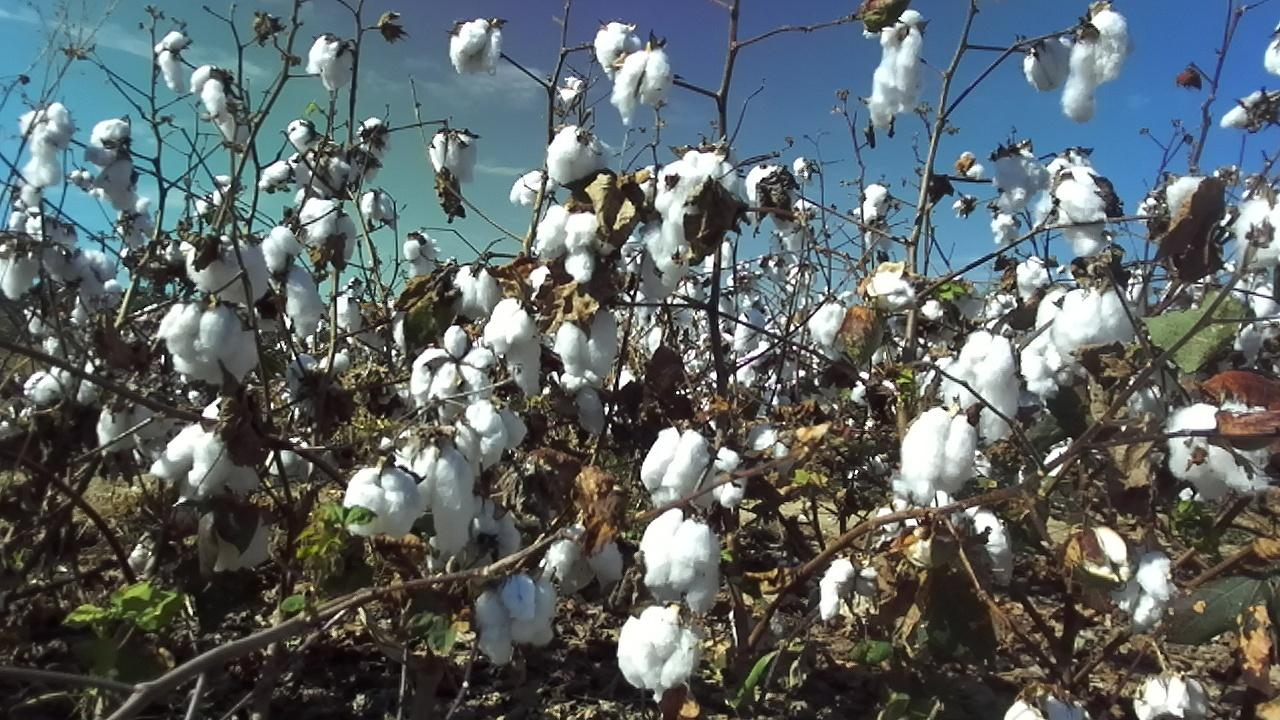cotton_ready: (899, 489, 1018, 592), (152, 397, 260, 497), (1165, 403, 1275, 496), (395, 433, 478, 547), (656, 149, 743, 254), (410, 325, 497, 427), (156, 303, 260, 388), (942, 331, 1020, 442), (473, 570, 563, 666), (617, 604, 705, 701), (641, 508, 722, 613), (900, 406, 978, 505), (1062, 11, 1130, 124), (712, 419, 793, 508), (1034, 158, 1109, 254), (869, 8, 929, 127), (259, 227, 323, 337), (0, 218, 82, 301), (450, 496, 524, 583), (1019, 286, 1077, 394), (641, 425, 714, 509), (541, 520, 625, 592), (485, 298, 544, 400), (96, 387, 183, 456), (19, 100, 74, 205), (188, 234, 270, 304), (81, 118, 140, 213), (343, 467, 424, 536), (196, 503, 271, 575), (1107, 550, 1175, 629), (1051, 288, 1136, 351), (534, 204, 600, 281), (612, 48, 673, 129), (1069, 525, 1131, 604), (189, 66, 249, 145), (556, 305, 619, 379), (1138, 173, 1214, 234), (456, 404, 530, 466), (255, 120, 316, 193), (818, 554, 880, 622), (545, 124, 610, 188), (544, 370, 608, 435), (640, 225, 692, 303), (992, 148, 1052, 211), (745, 165, 803, 230), (286, 353, 349, 412), (1236, 188, 1280, 269), (301, 197, 355, 263), (1135, 673, 1209, 720), (809, 288, 856, 361), (449, 261, 508, 318), (295, 141, 360, 192), (33, 361, 102, 408), (448, 18, 501, 77), (306, 37, 356, 93), (428, 131, 480, 184), (1018, 255, 1072, 306), (1023, 37, 1072, 93), (79, 251, 124, 311), (1003, 690, 1092, 720), (595, 23, 643, 78), (352, 115, 390, 179), (857, 183, 889, 251), (869, 271, 920, 313), (404, 232, 444, 278)
